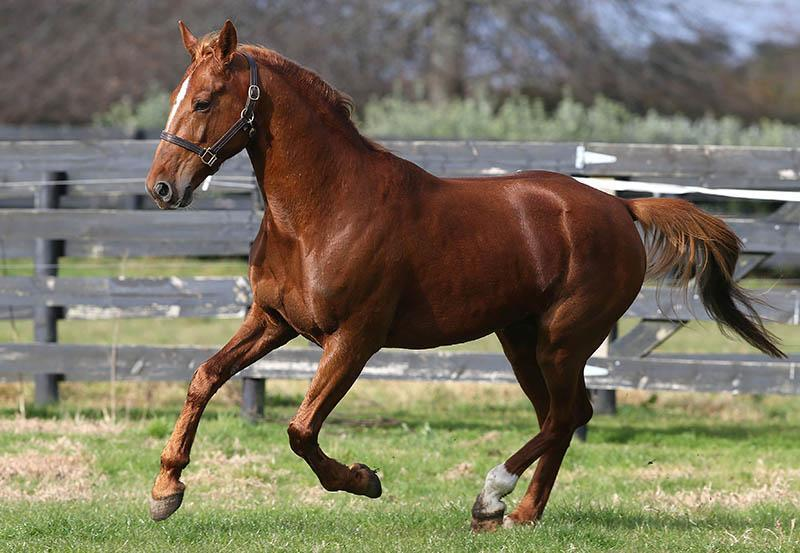horse: (141, 12, 800, 536)
